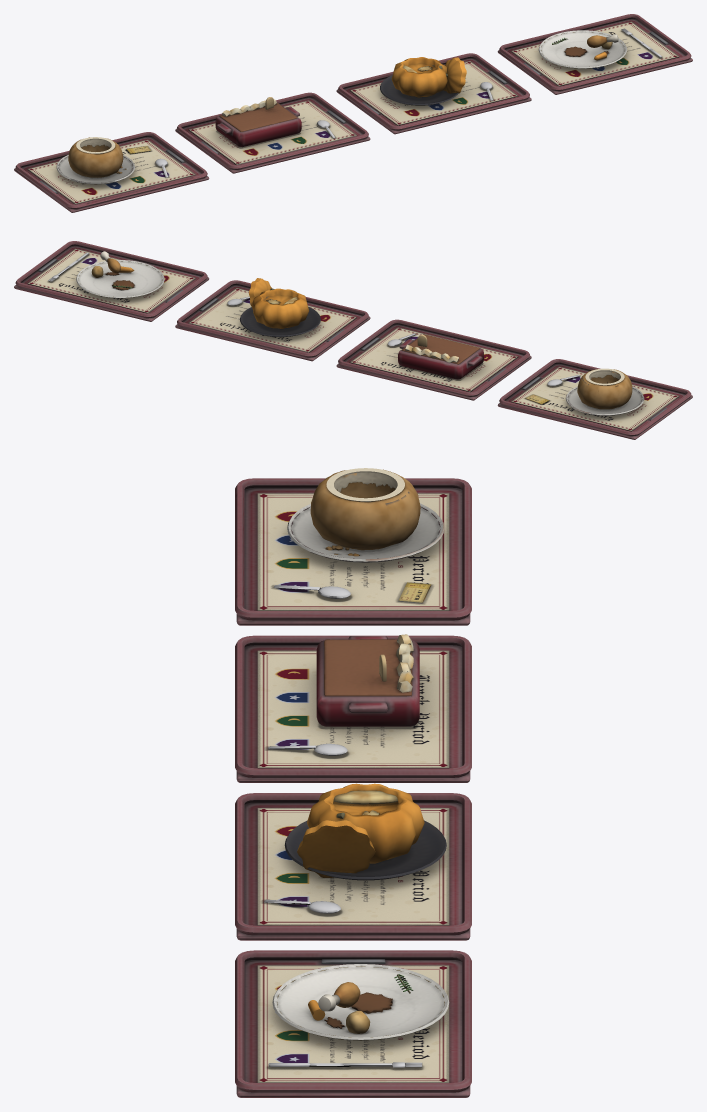
Rendered from ConcessionLunchHouse3.fbx.
3 renders of one model, top to bottom at view 1: azimuth 30°, elevation 25°; view 2: azimuth 150°, elevation 25°; view 3: azimuth 270°, elevation 25°, orthographic. The views are drawn at different scales.
Parts seen in each view (by area): view 1: ConcessionLunchHouse3_PumpkinGratin, ConcessionLunchHouse3_WitchingStew, ConcessionLunchHouse3_ShepherdsPie, ConcessionLunchHouse3_RavensRoast; view 2: ConcessionLunchHouse3_PumpkinGratin, ConcessionLunchHouse3_WitchingStew, ConcessionLunchHouse3_ShepherdsPie, ConcessionLunchHouse3_RavensRoast; view 3: ConcessionLunchHouse3_WitchingStew, ConcessionLunchHouse3_PumpkinGratin, ConcessionLunchHouse3_RavensRoast, ConcessionLunchHouse3_ShepherdsPie.
Boxes of the visible parts, x1=… form: ConcessionLunchHouse3_PumpkinGratin: x1=336, y1=53, x2=531, y2=134; ConcessionLunchHouse3_WitchingStew: x1=14, y1=132, x2=209, y2=212; ConcessionLunchHouse3_ShepherdsPie: x1=175, y1=92, x2=370, y2=173; ConcessionLunchHouse3_RavensRoast: x1=497, y1=14, x2=692, y2=94; ConcessionLunchHouse3_PumpkinGratin: x1=175, y1=278, x2=370, y2=361; ConcessionLunchHouse3_WitchingStew: x1=497, y1=359, x2=692, y2=439; ConcessionLunchHouse3_ShepherdsPie: x1=336, y1=319, x2=531, y2=400; ConcessionLunchHouse3_RavensRoast: x1=14, y1=241, x2=209, y2=321; ConcessionLunchHouse3_WitchingStew: x1=235, y1=468, x2=471, y2=625; ConcessionLunchHouse3_PumpkinGratin: x1=235, y1=783, x2=471, y2=940; ConcessionLunchHouse3_RavensRoast: x1=235, y1=950, x2=471, y2=1097; ConcessionLunchHouse3_ShepherdsPie: x1=235, y1=634, x2=471, y2=782.
Size of the model in its own units: 586 by 32.29 by 96.58.
